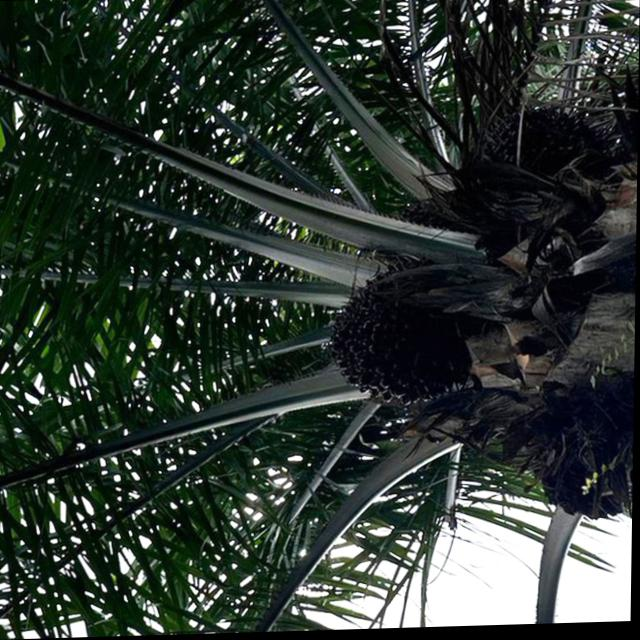ripe: (316, 264, 471, 417)
